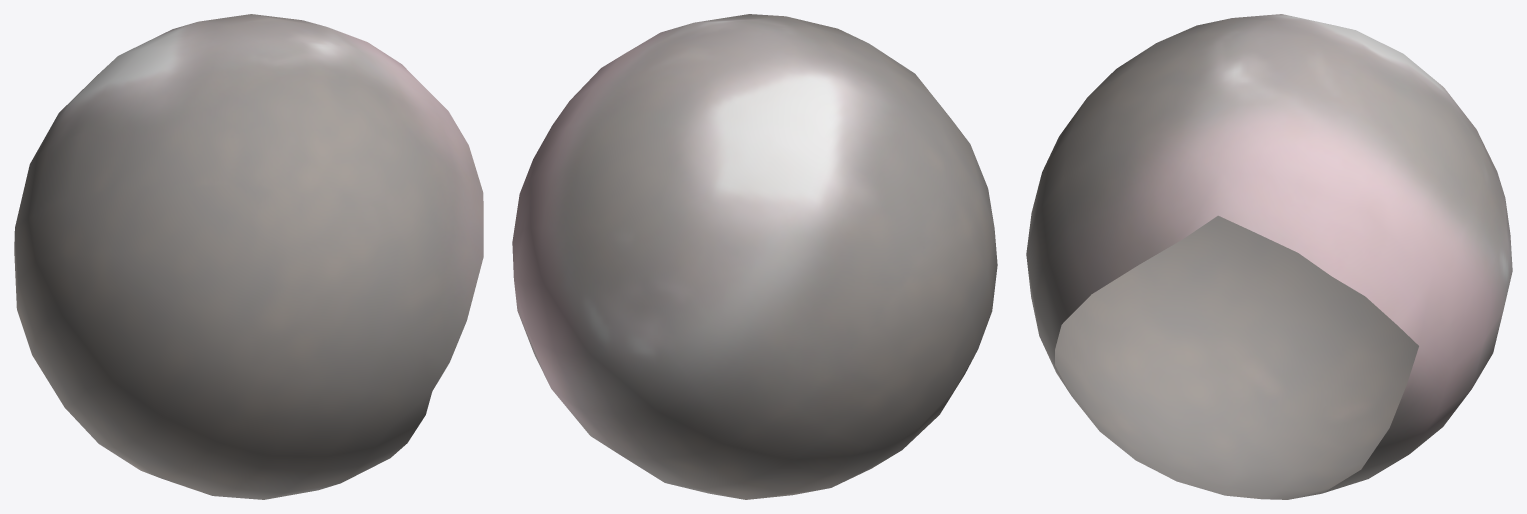
Rendered from pearl.obj.
The picture shows the model from 3 angles, left to right: view 1: azimuth 30°, elevation 25°; view 2: azimuth 150°, elevation 25°; view 3: azimuth 270°, elevation 25°; orthographic projection.
Visible parts, largest first — view 1: dynamic; view 2: dynamic; view 3: dynamic.
Boxes of the visible parts, bbox=[...] form: dynamic: bbox=[14, 14, 483, 499]; dynamic: bbox=[512, 14, 997, 499]; dynamic: bbox=[1026, 14, 1512, 499].
Bounding box in the file's own units: 0.9146 × 0.9553 × 0.9596.
1 material, 1 textured.
